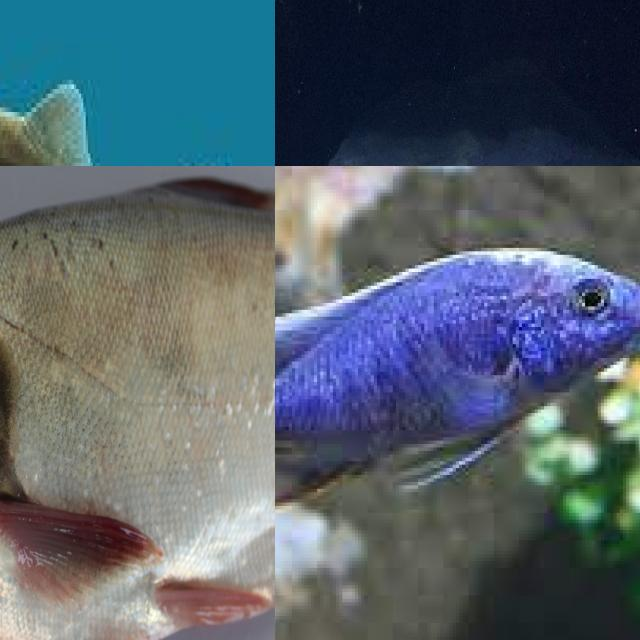fish: (0, 166, 275, 640), (275, 230, 640, 516), (0, 0, 275, 166)
